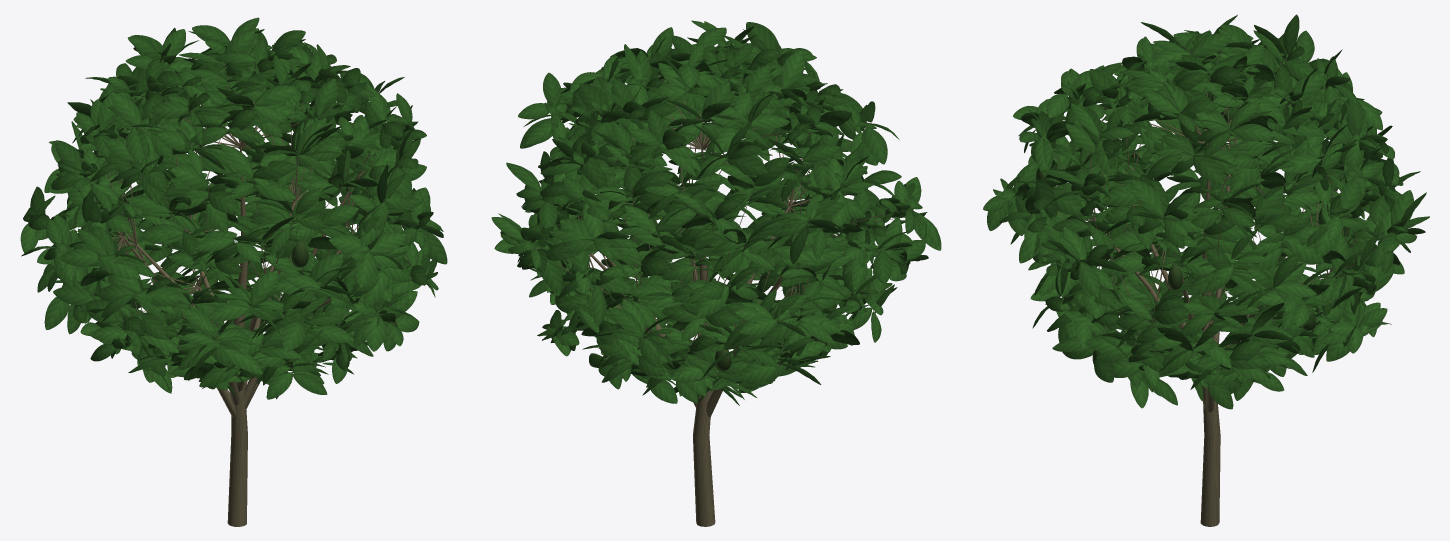
The model's file is avocado-tree.glb.
3 views of the same model, side by side, from view 1: azimuth 30°, elevation 25°; view 2: azimuth 150°, elevation 25°; view 3: azimuth 270°, elevation 25° (orthographic).
Parts seen in each view (by area): view 1: avocado_leaves, avocado_bark; view 2: avocado_leaves, avocado_bark; view 3: avocado_leaves, avocado_bark, avocado_fruit.
Part boxes in pixels (bbox=[...]): avocado_leaves: bbox=[20, 17, 447, 399]; avocado_bark: bbox=[57, 48, 412, 526]; avocado_leaves: bbox=[491, 20, 941, 405]; avocado_bark: bbox=[525, 43, 922, 526]; avocado_leaves: bbox=[983, 14, 1429, 409]; avocado_bark: bbox=[1029, 45, 1396, 526]; avocado_fruit: bbox=[1036, 167, 1315, 364].
Size of the model in its own units: 3 by 3.5 by 3.
Materials: 3 (2 with a texture image).
